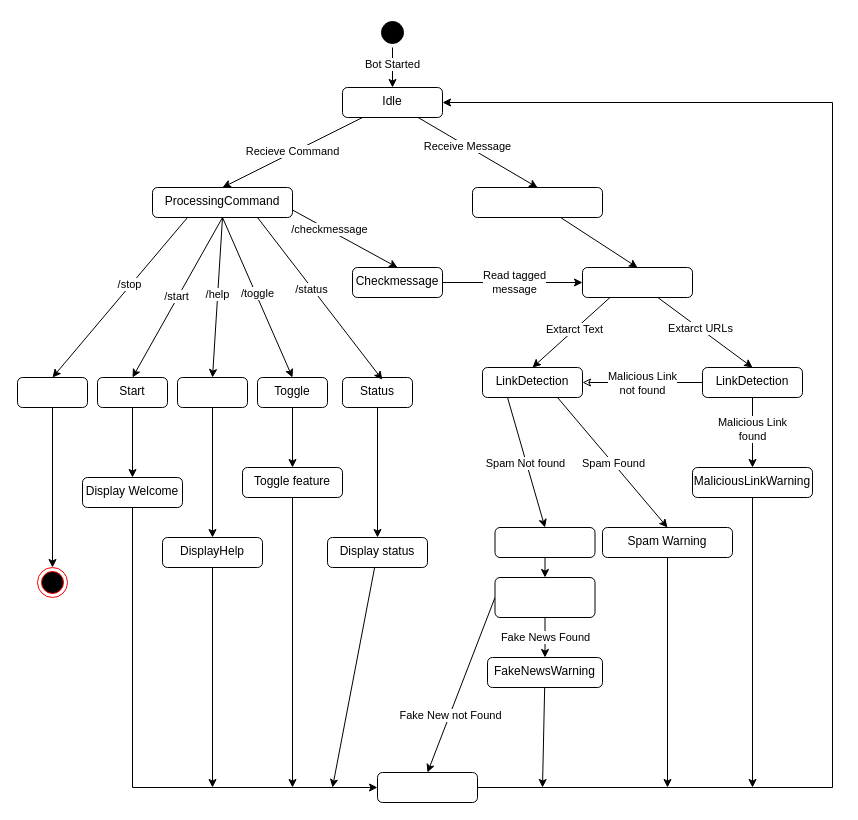
Some shapes in this 858 by 820 pixel diagram are drawn without their labels. The box of each missing label's shape, as (x1, y1, x2, y2) in pixels:
Continue: (376, 772, 478, 802)
Extract Title & text: (494, 526, 595, 558)
FakeNews Detection: (494, 576, 595, 618)
Help: (176, 376, 248, 408)
MessageAnalysis: (582, 266, 692, 298)
ProcessingMessage: (472, 186, 602, 218)
Stop: (16, 376, 88, 408)
